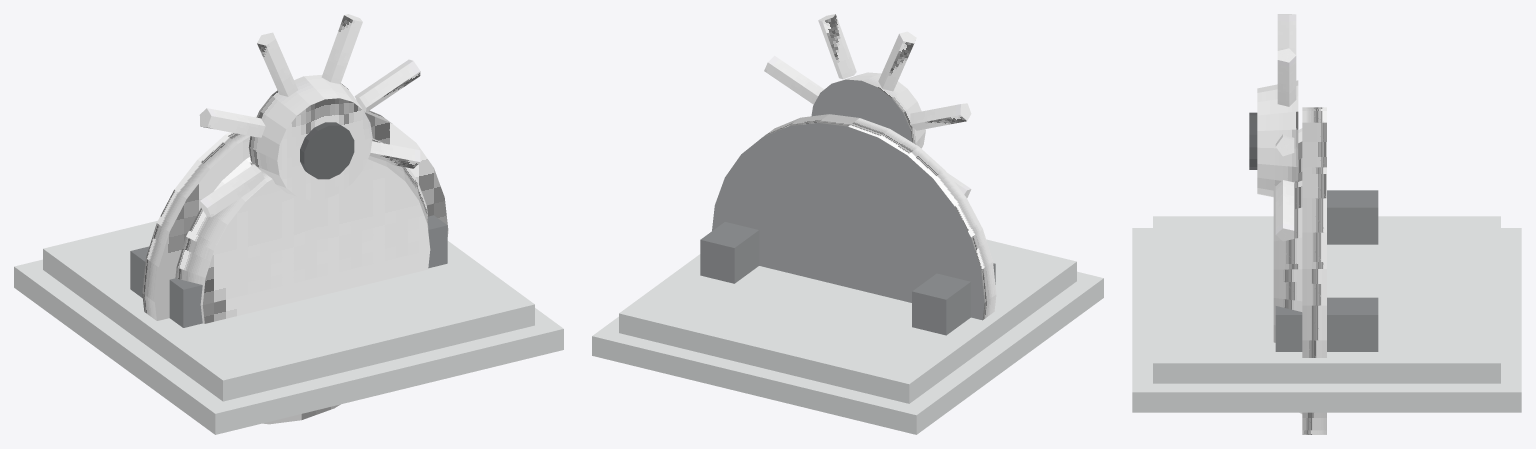
Rendered from Building_SculptureGrand__D.glb.
3 views of the same model, side by side, from view 1: azimuth 30°, elevation 25°; view 2: azimuth 150°, elevation 25°; view 3: azimuth 270°, elevation 25° (orthographic). The views are drawn at different scales.
Visible parts, largest first — view 1: SculptureGrand__D; view 2: SculptureGrand__D; view 3: SculptureGrand__D.
Boxes of the visible parts, x1,y1,x2,y2 form: SculptureGrand__D: [14, 14, 563, 434]; SculptureGrand__D: [592, 14, 1103, 434]; SculptureGrand__D: [1132, 14, 1521, 434].
Size of the model in its own units: 1.9 by 2.09 by 1.9.
1 material, 1 textured.
